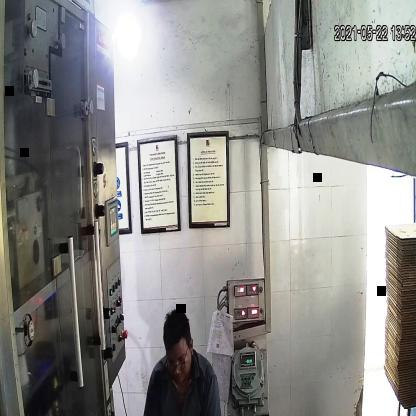goggles: (162, 349, 190, 378)
